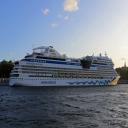cruises: (9, 44, 122, 89)
